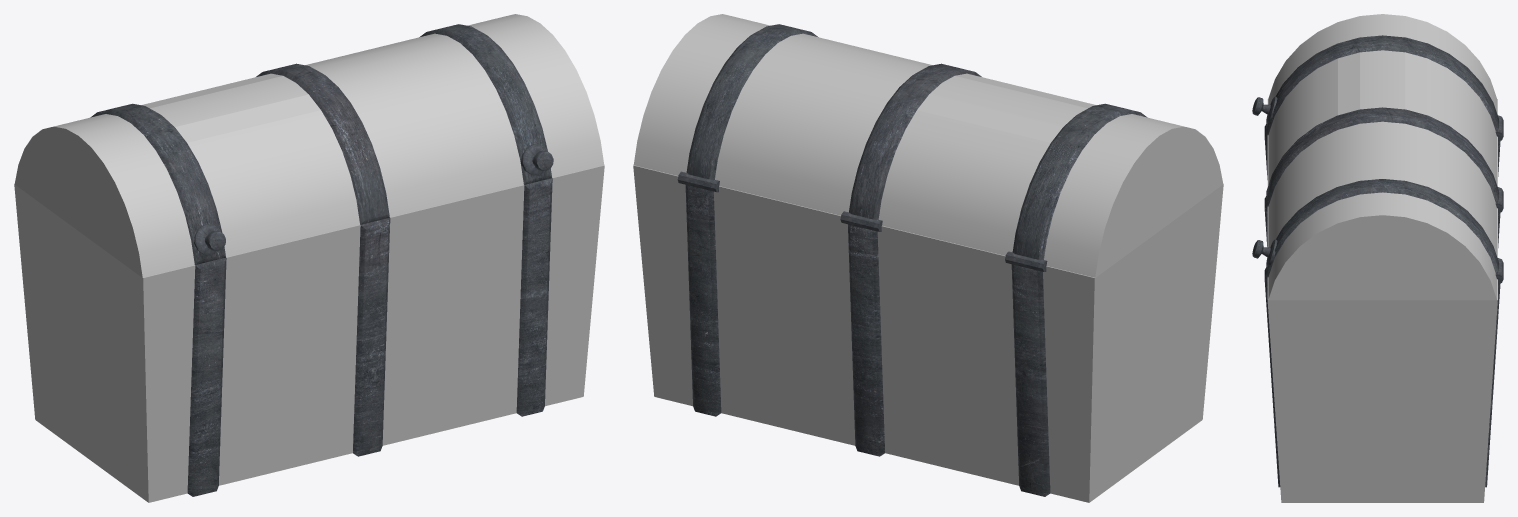
Rendered from chest.fbx.
3 renders of one model, left to right at view 1: azimuth 30°, elevation 25°; view 2: azimuth 150°, elevation 25°; view 3: azimuth 270°, elevation 25°, orthographic. The views are drawn at different scales.
Parts seen in each view (by area): view 1: Mesh; view 2: Mesh; view 3: Mesh.
Boxes of the visible parts, left/top/right/bottom form: Mesh: left=14, top=14, right=604, bottom=502; Mesh: left=633, top=14, right=1223, bottom=502; Mesh: left=1252, top=14, right=1503, bottom=502.
Size of the model in its own units: 302 by 209 by 159.
